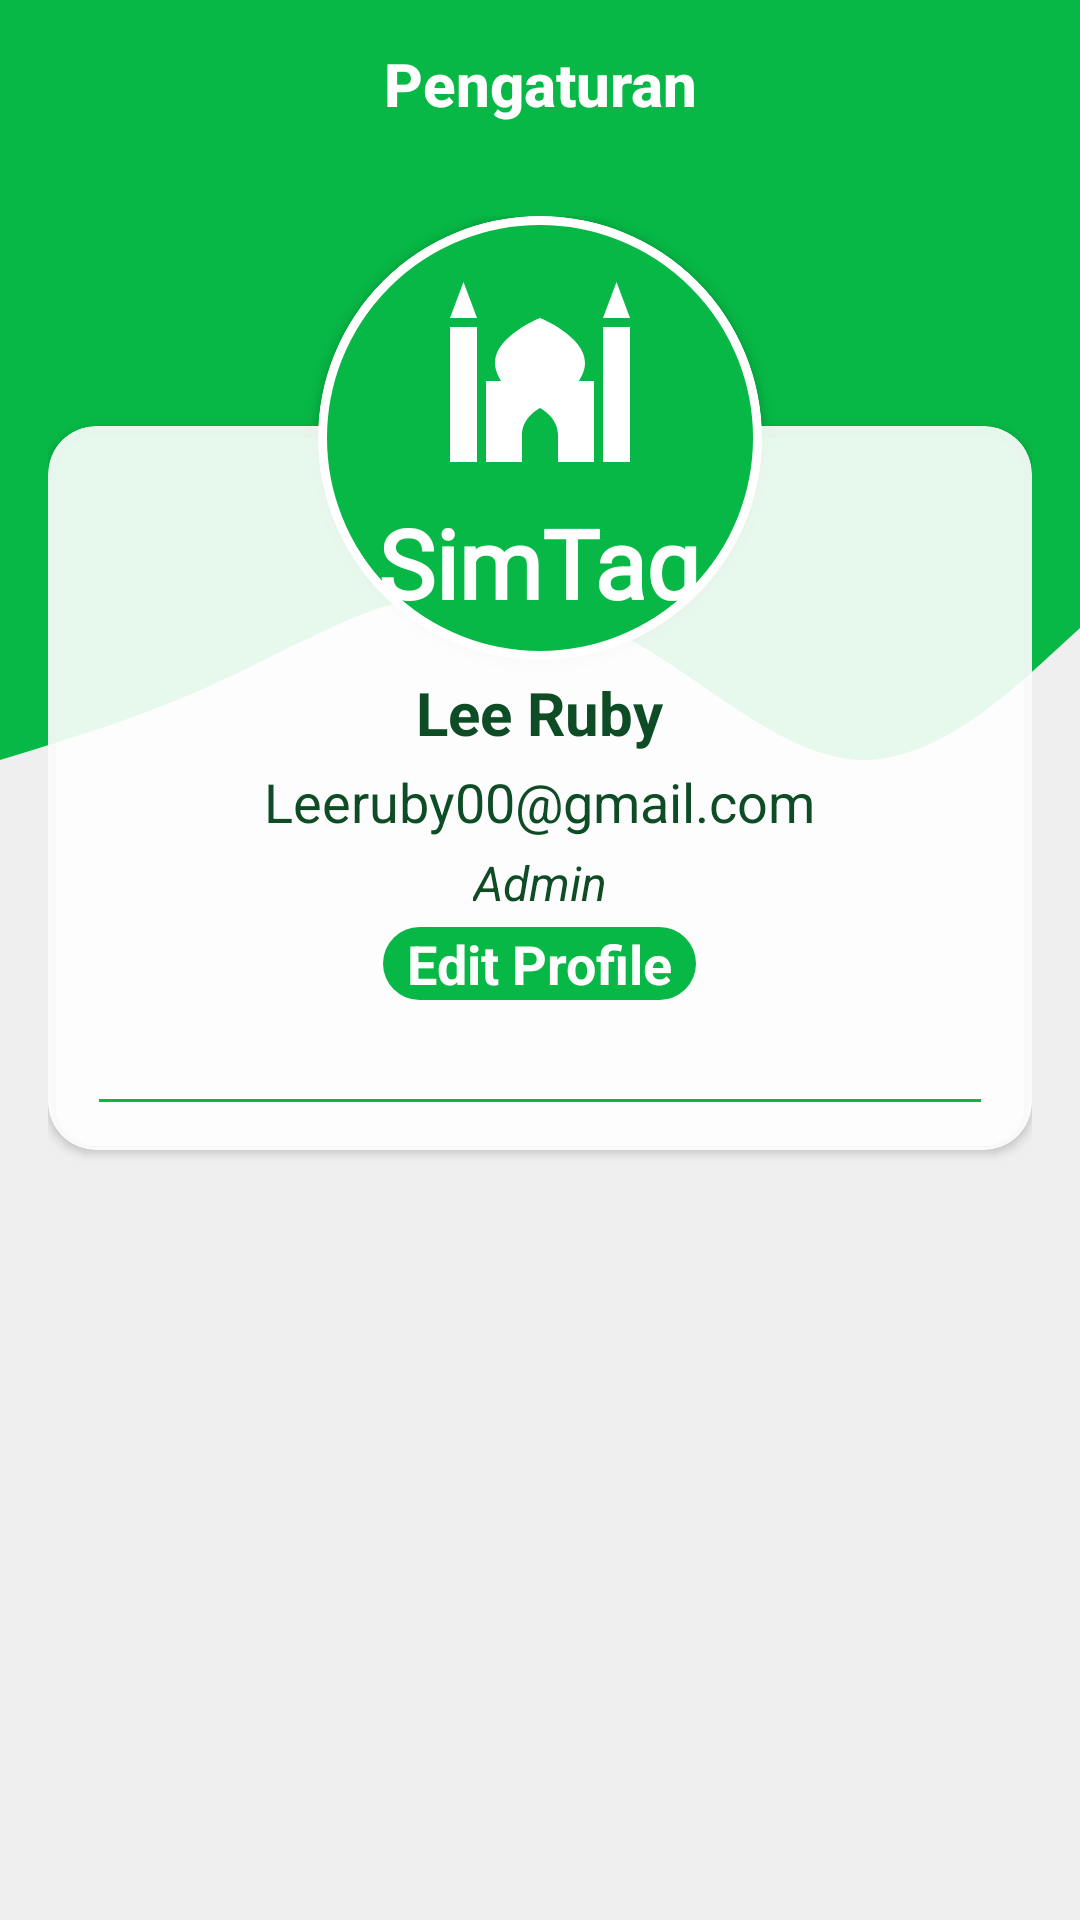

Where icons sit on this 1080 × 1920 app screen, as {"x1": x1, "y1": y1, "x2": x2, "y2": y2}:
mosque: {"x1": 450, "y1": 282, "x2": 630, "y2": 462}
